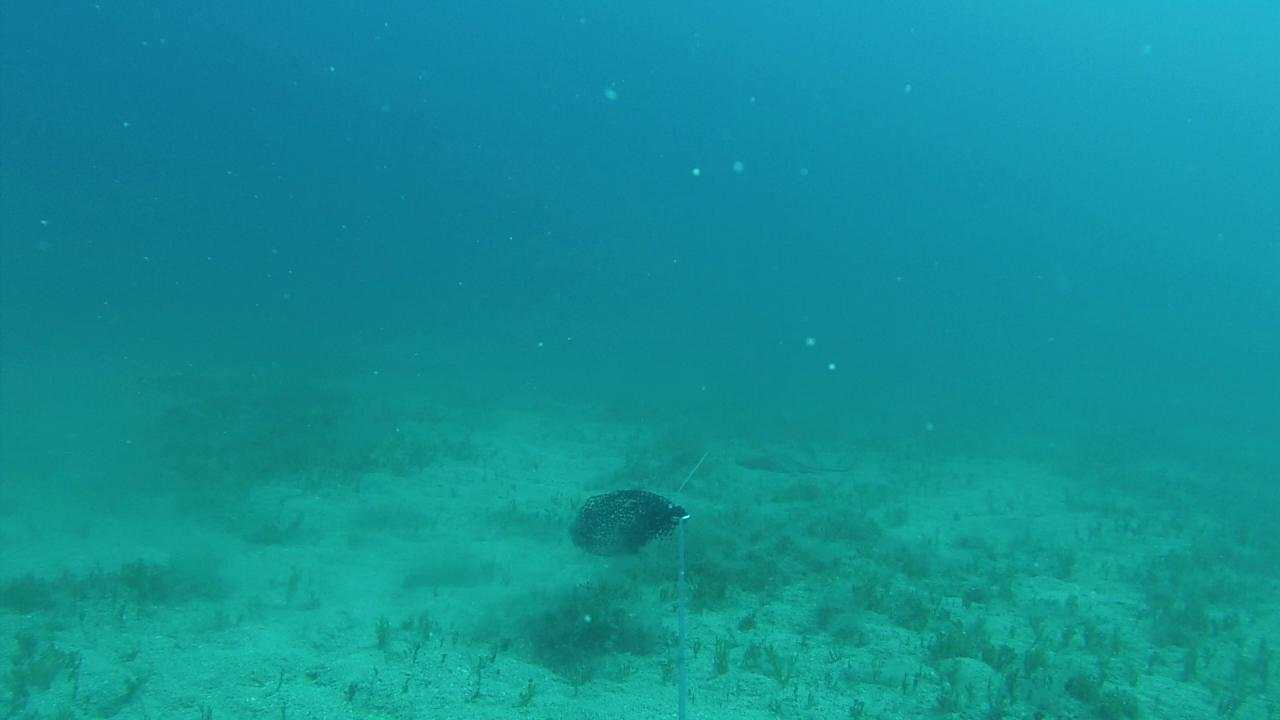dasyatis: (759, 434, 853, 474)
